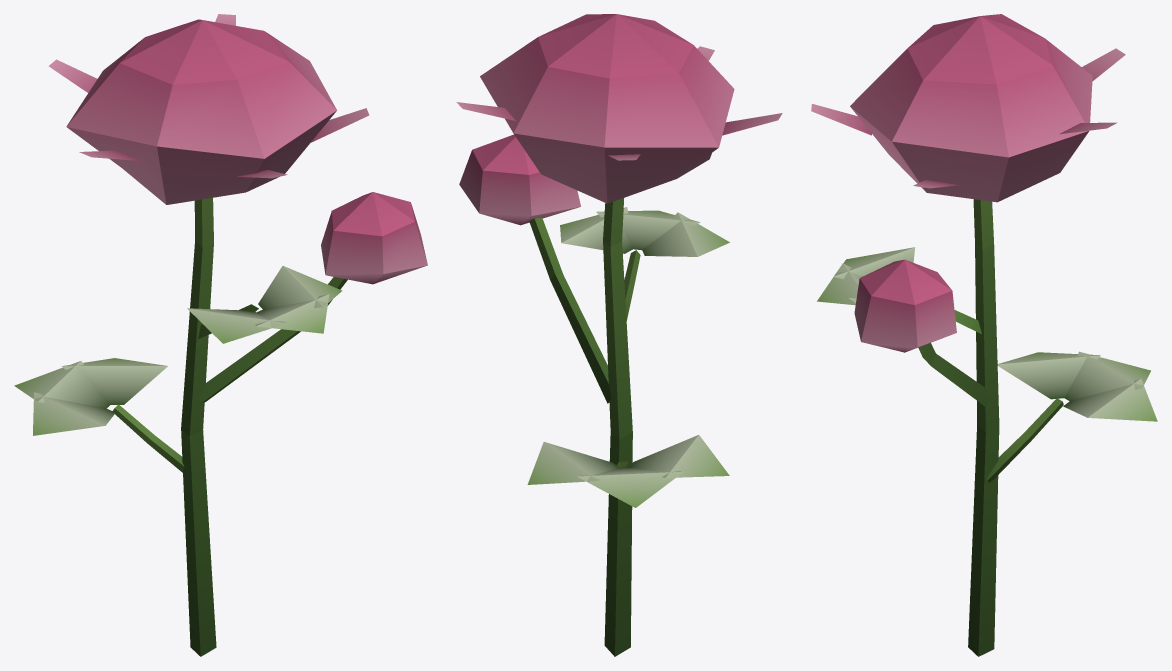
The model's file is flower-clover.BACKUP.glb.
3 views of the same model, side by side, from view 1: azimuth 30°, elevation 25°; view 2: azimuth 150°, elevation 25°; view 3: azimuth 270°, elevation 25° (orthographic).
Parts seen in each view (by area): view 1: clover; view 2: clover; view 3: clover.
Boxes of the visible parts, x1=… form: clover: x1=14, y1=14, x2=427, y2=656; clover: x1=456, y1=14, x2=782, y2=656; clover: x1=811, y1=14, x2=1157, y2=656.
Size of the model in its own units: 2.13 by 3.9 by 1.93.
